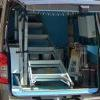stairs: (28, 15, 67, 89)
